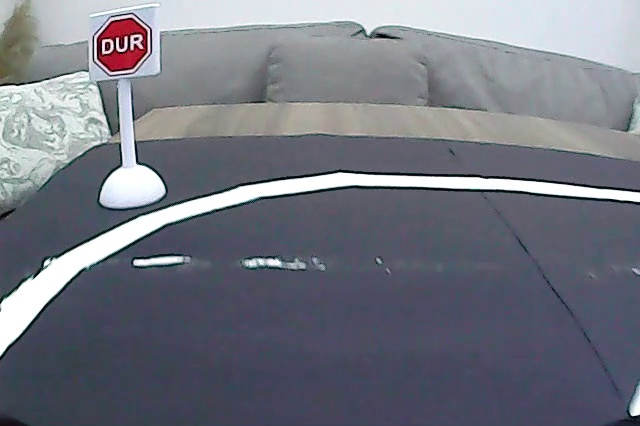stop sign: (91, 11, 154, 78)
